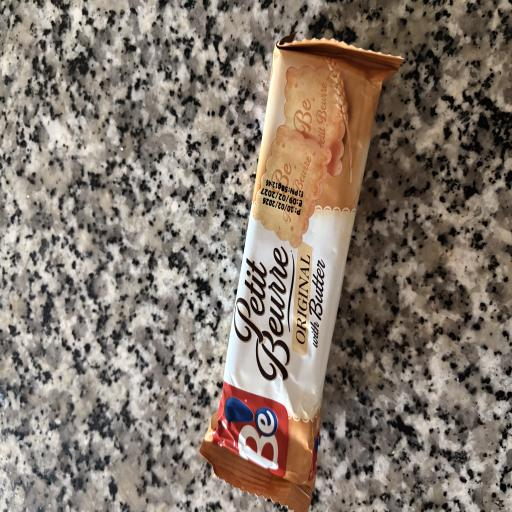petit-beurre: (197, 27, 421, 510)
